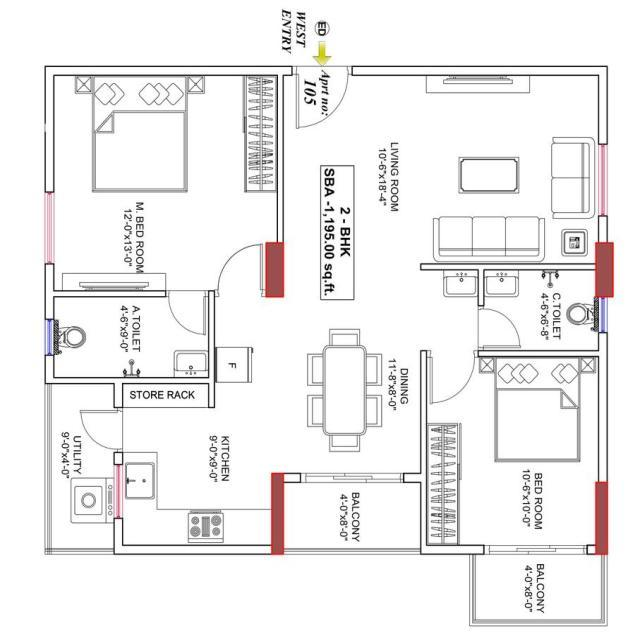Balcony-Sitout: (273, 475, 426, 557), (472, 557, 605, 626)
Bedroom: (422, 351, 611, 558)
Bedroom with Toilet: (45, 65, 284, 384)
Dining: (303, 325, 386, 455)
Kitchen: (114, 381, 284, 558)
Living: (280, 67, 610, 268)
Toilet: (47, 293, 212, 380), (476, 266, 612, 355)
Utility: (45, 383, 121, 558)
